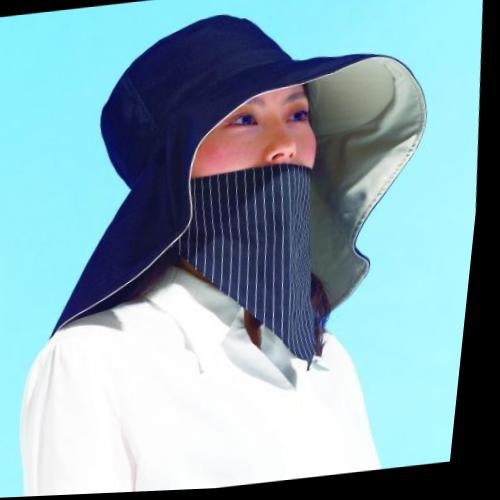WRONG: (170, 75, 336, 264)
